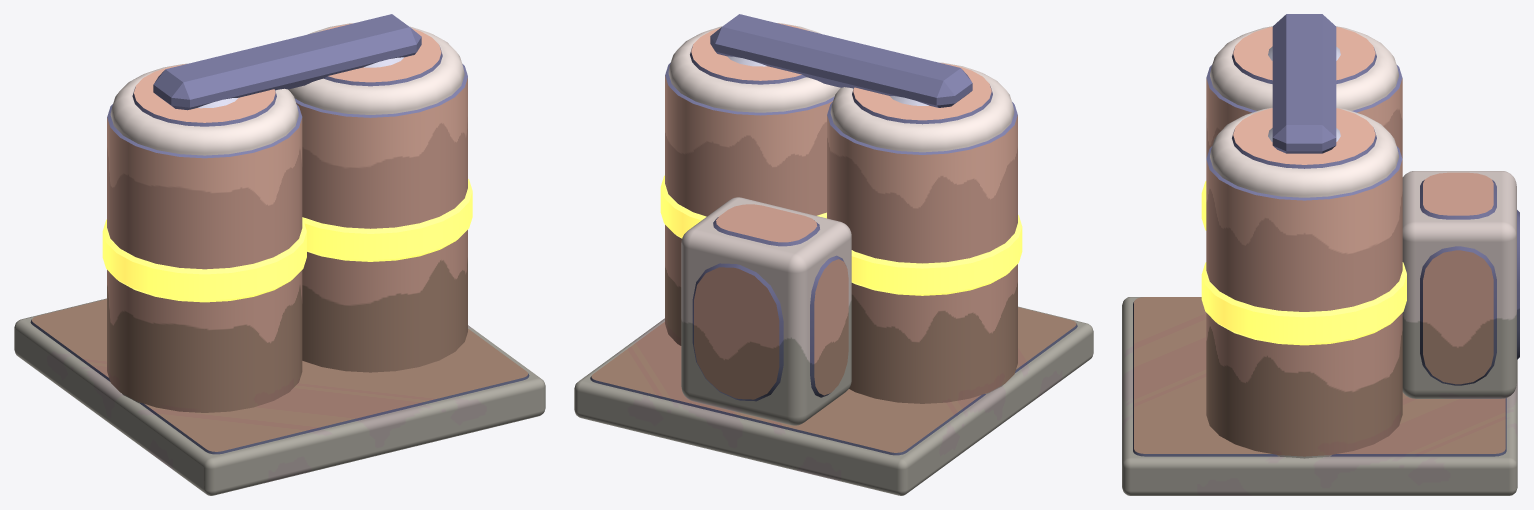
Rendered from R4X_Battery.glb.
The picture shows the model from 3 angles, left to right: view 1: azimuth 30°, elevation 25°; view 2: azimuth 150°, elevation 25°; view 3: azimuth 270°, elevation 25°; orthographic projection. The views are drawn at different scales.
Parts seen in each view (by area): view 1: R4X_Battery_Body; view 2: R4X_Battery_Body; view 3: R4X_Battery_Body.
Boxes of the visible parts, box(x1,y1,x2,y2) form: R4X_Battery_Body: box(14, 14, 545, 495); R4X_Battery_Body: box(574, 14, 1093, 495); R4X_Battery_Body: box(1122, 14, 1519, 495).
Size of the model in its own units: 0.5167 by 0.4986 by 0.517.
Materials: 5 (4 with a texture image).
